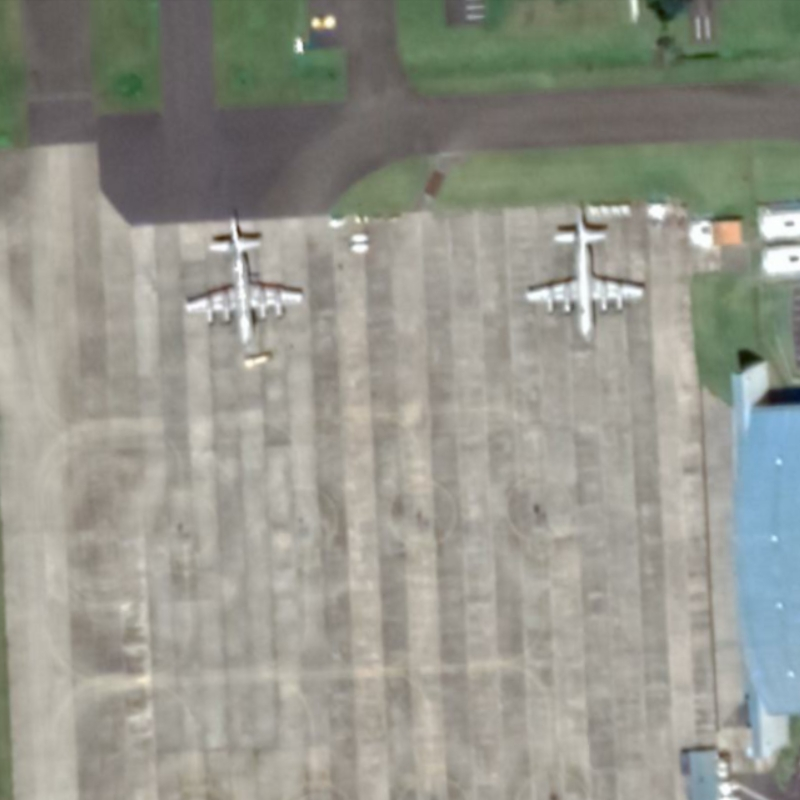A9: (182, 205, 315, 350), (524, 194, 649, 341)
